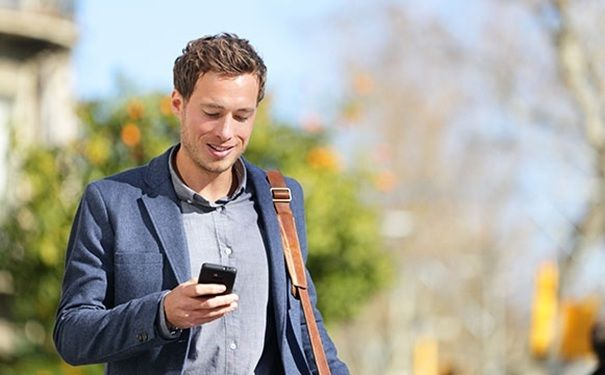reading: (164, 259, 243, 330)
